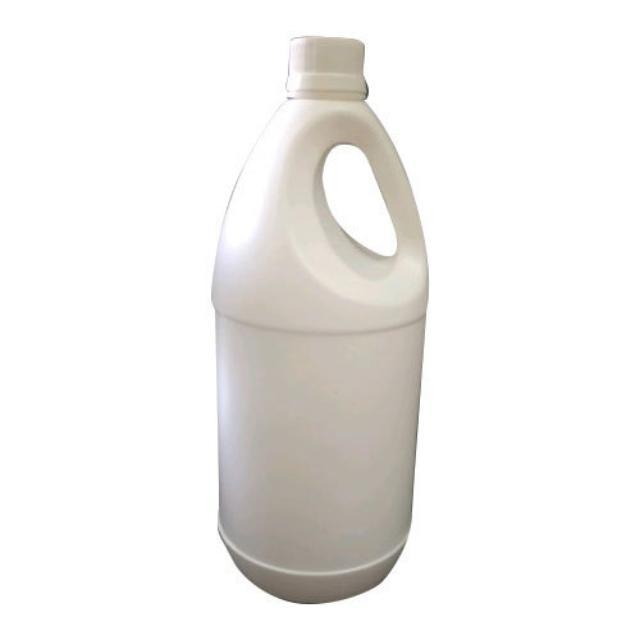Botella de plastico: (211, 36, 429, 604)
